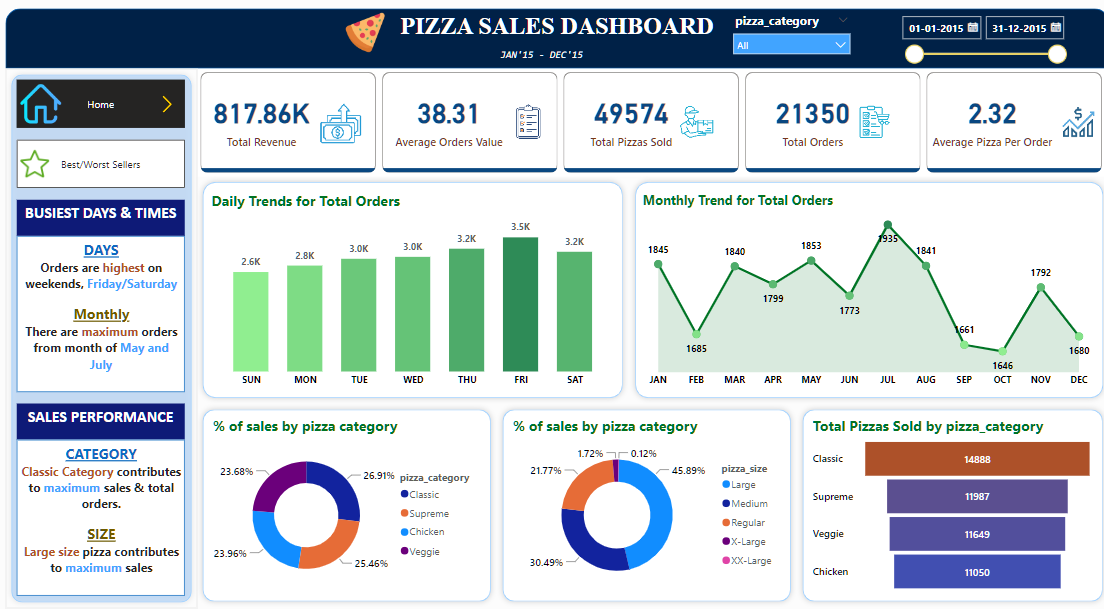

What the dashboard file says about the page in this screenshot:
{"tool":"powerbi","page":{"name":"Home","canvas":[1500,820],"ordinal":0},"visuals":[{"type":"cardVisual","fields":{"Data":["pizza_sales.Total Revenue","pizza_sales.Average Orders Value","pizza_sales.Total Pizzas Sold","pizza_sales.Total Orders","pizza_sales.Average Pizza Per Order"]},"box":[272,96,1216,144],"z":0},{"type":"shape","box":[16,16,1472,80],"z":1000},{"type":"textbox","box":[528,16,448,48],"z":2000},{"type":"textbox","box":[672,64,144,32],"z":3000},{"type":"image","box":[448,16,96,64],"z":4000},{"type":"shape","box":[272,240,576,304],"z":5000},{"type":"columnChart","title":"Daily Trends for Total Orders","fields":{"Category":["pizza_sales.order_day"],"Y":["pizza_sales.Total Orders"]},"box":[288,256,544,272],"z":6000},{"type":"shape","box":[848,240,640,304],"z":7000},{"type":"areaChart","title":"Monthly Trend for Total Orders","fields":{"Category":["pizza_sales.Month_name"],"Y":["pizza_sales.Total Orders"]},"box":[864,256,608,272],"z":8000},{"type":"shape","box":[272,544,400,272],"z":9000},{"type":"shape","box":[672,544,400,272],"z":10000},{"type":"shape","box":[1072,544,416,272],"z":11000},{"type":"donutChart","title":"% of sales by pizza category","fields":{"Category":["pizza_sales.pizza_category"],"Y":["pizza_sales.Total Revenue"]},"box":[288,560,368,240],"z":12000},{"type":"donutChart","title":"% of sales by pizza category","fields":{"Y":["pizza_sales.Total Revenue"],"Category":["pizza_sales.pizza_size"]},"box":[688,560,368,240],"z":13000},{"type":"funnel","fields":{"Y":["pizza_sales.Total Pizzas Sold"],"Category":["pizza_sales.pizza_category"]},"box":[1088,560,384,240],"z":14000},{"type":"shape","box":[16,96,256,720],"z":15000},{"type":"textbox","box":[32,320,224,208],"z":16000},{"type":"textbox","box":[32,272,224,48],"z":17000},{"type":"textbox","box":[32,544,224,48],"z":18000},{"type":"textbox","box":[32,592,224,208],"z":19000},{"type":"slicer","fields":{"Values":["pizza_sales.pizza_category"]},"box":[976,16,176,80],"z":20000},{"type":"slicer","fields":{"Values":["pizza_sales.order_date"]},"box":[1200,16,240,80],"z":21000},{"type":"pageNavigator","box":[32,112,224,64],"z":21001},{"type":"pageNavigator","box":[32,192,224,64],"z":21002},{"type":"image","box":[208,128,48,32],"z":21003},{"type":"image","box":[32,112,64,64],"z":21004},{"type":"image","box":[32,192,48,64],"z":21005}]}

Visuals, with their boxes in screenshot pixels (x1, y1, x2, y2), scaled from the page's 1500x820 canvas onto the 1104x609 screenshot:
cardVisual - pizza_sales.Total Revenue x pizza_sales.Average Orders Value: crop(200, 71, 1095, 178)
shape: crop(12, 12, 1095, 71)
textbox: crop(389, 12, 718, 48)
textbox: crop(495, 48, 601, 71)
image: crop(330, 12, 400, 59)
shape: crop(200, 178, 624, 404)
"Daily Trends for Total Orders" columnChart: crop(212, 190, 612, 392)
shape: crop(624, 178, 1095, 404)
"Monthly Trend for Total Orders" areaChart: crop(636, 190, 1083, 392)
shape: crop(200, 404, 495, 606)
shape: crop(495, 404, 789, 606)
shape: crop(789, 404, 1095, 606)
"% of sales by pizza category" donutChart: crop(212, 416, 483, 594)
"% of sales by pizza category" donutChart: crop(506, 416, 777, 594)
funnel - pizza_sales.Total Pizzas Sold x pizza_sales.pizza_category: crop(801, 416, 1083, 594)
shape: crop(12, 71, 200, 606)
textbox: crop(24, 238, 188, 392)
textbox: crop(24, 202, 188, 238)
textbox: crop(24, 404, 188, 440)
textbox: crop(24, 440, 188, 594)
slicer - pizza_sales.pizza_category: crop(718, 12, 848, 71)
slicer - pizza_sales.order_date: crop(883, 12, 1060, 71)
pageNavigator: crop(24, 83, 188, 131)
pageNavigator: crop(24, 143, 188, 190)
image: crop(153, 95, 188, 119)
image: crop(24, 83, 71, 131)
image: crop(24, 143, 59, 190)
